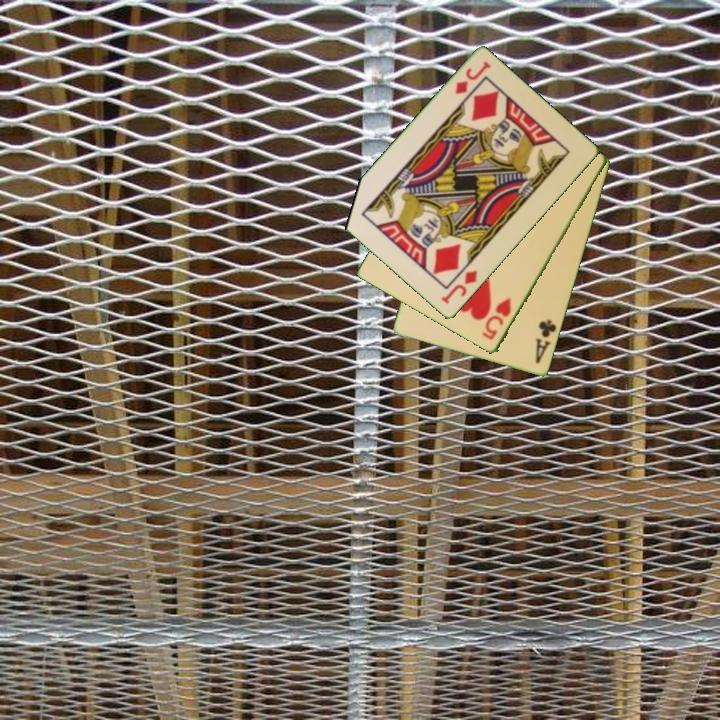5h: (479, 295, 514, 343)
Ac: (532, 316, 560, 367)
Jd: (438, 267, 481, 308), (451, 58, 494, 98)
